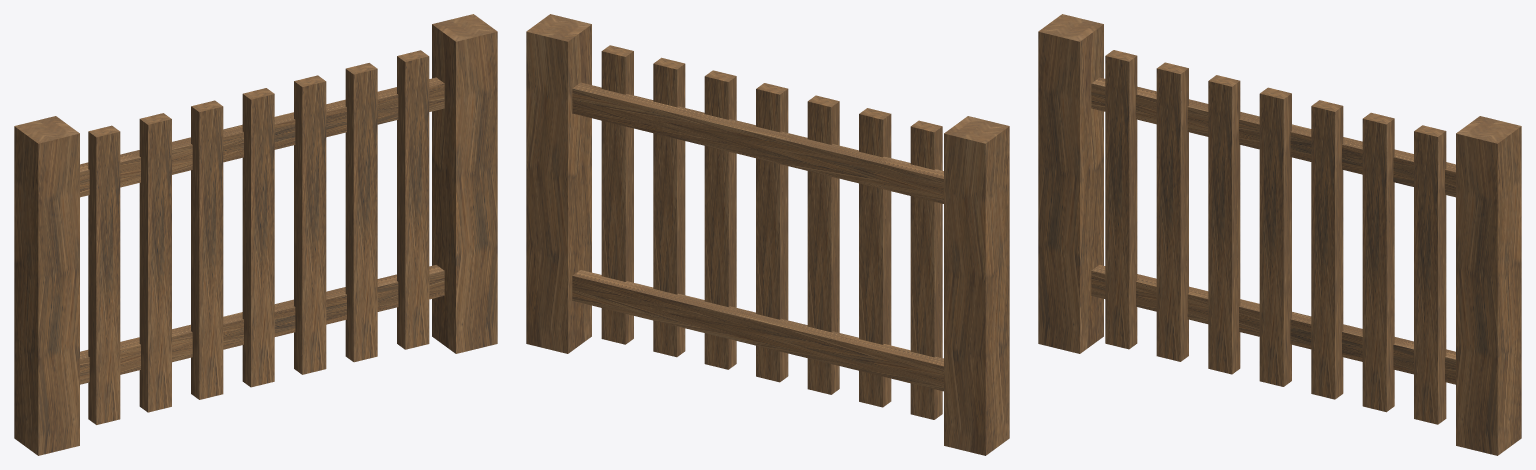
Rendered from Wooden_fence.fbx.
The picture shows the model from 3 angles, left to right: view 1: azimuth 30°, elevation 25°; view 2: azimuth 150°, elevation 25°; view 3: azimuth 330°, elevation 25°; orthographic projection.
Visible parts, largest first — view 1: Wooden_fence; view 2: Wooden_fence; view 3: Wooden_fence.
Part boxes in pixels (left/top/right/bottom): Wooden_fence: left=14, top=14, right=497, bottom=455; Wooden_fence: left=526, top=14, right=1009, bottom=455; Wooden_fence: left=1038, top=14, right=1521, bottom=455.
Size of the model in its own units: 385 by 250 by 35.
